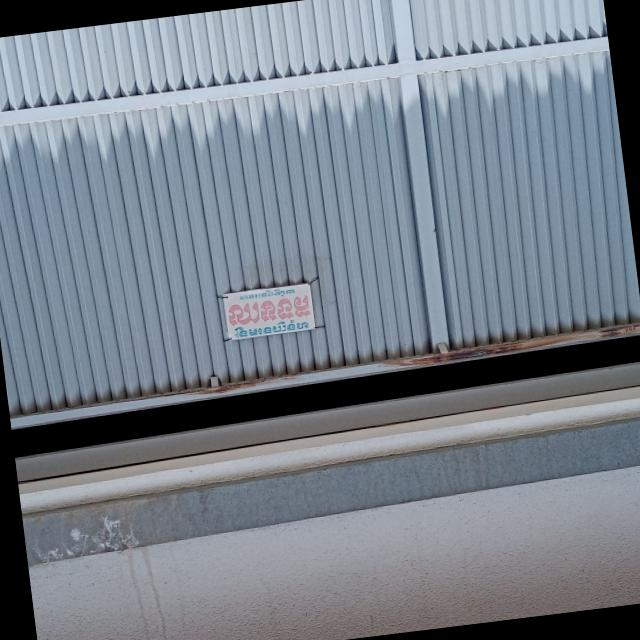Yolov11kh: (220, 293, 327, 329), (227, 315, 317, 342), (220, 283, 319, 304)
